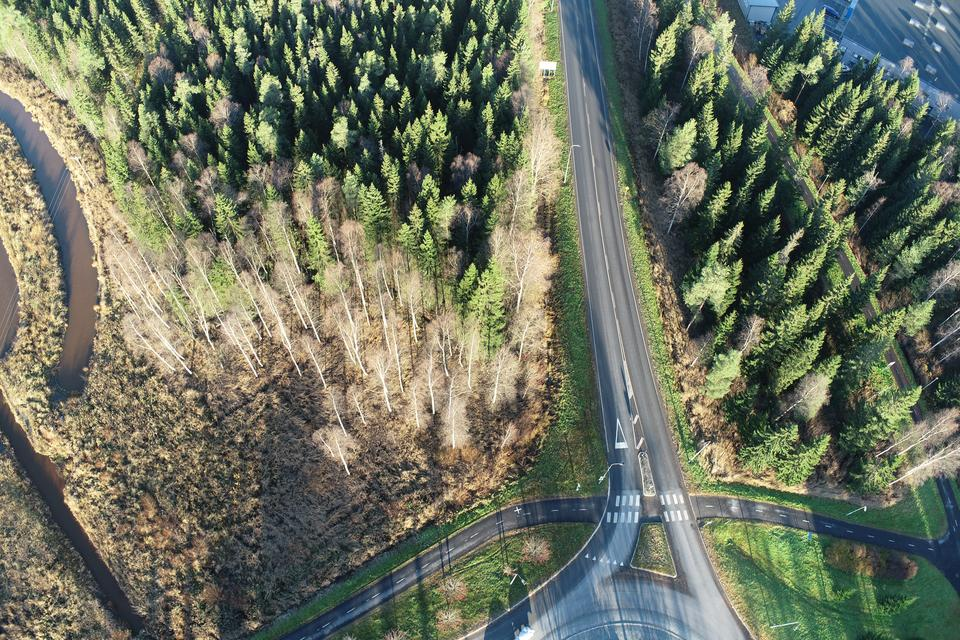intersection: (571, 480, 743, 527)
roundabout: (432, 533, 820, 640)
